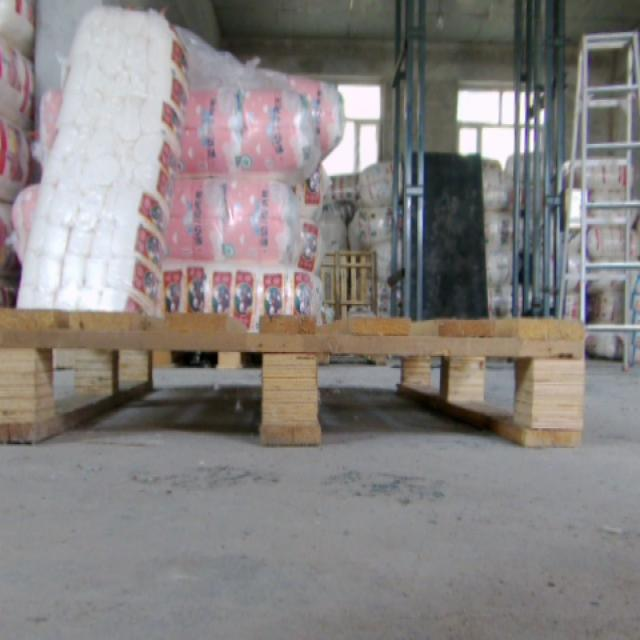block: (524, 347, 593, 448), (262, 343, 322, 448), (0, 313, 43, 446), (450, 349, 490, 408), (76, 349, 118, 394), (398, 349, 434, 389)
front: (0, 308, 590, 451)
